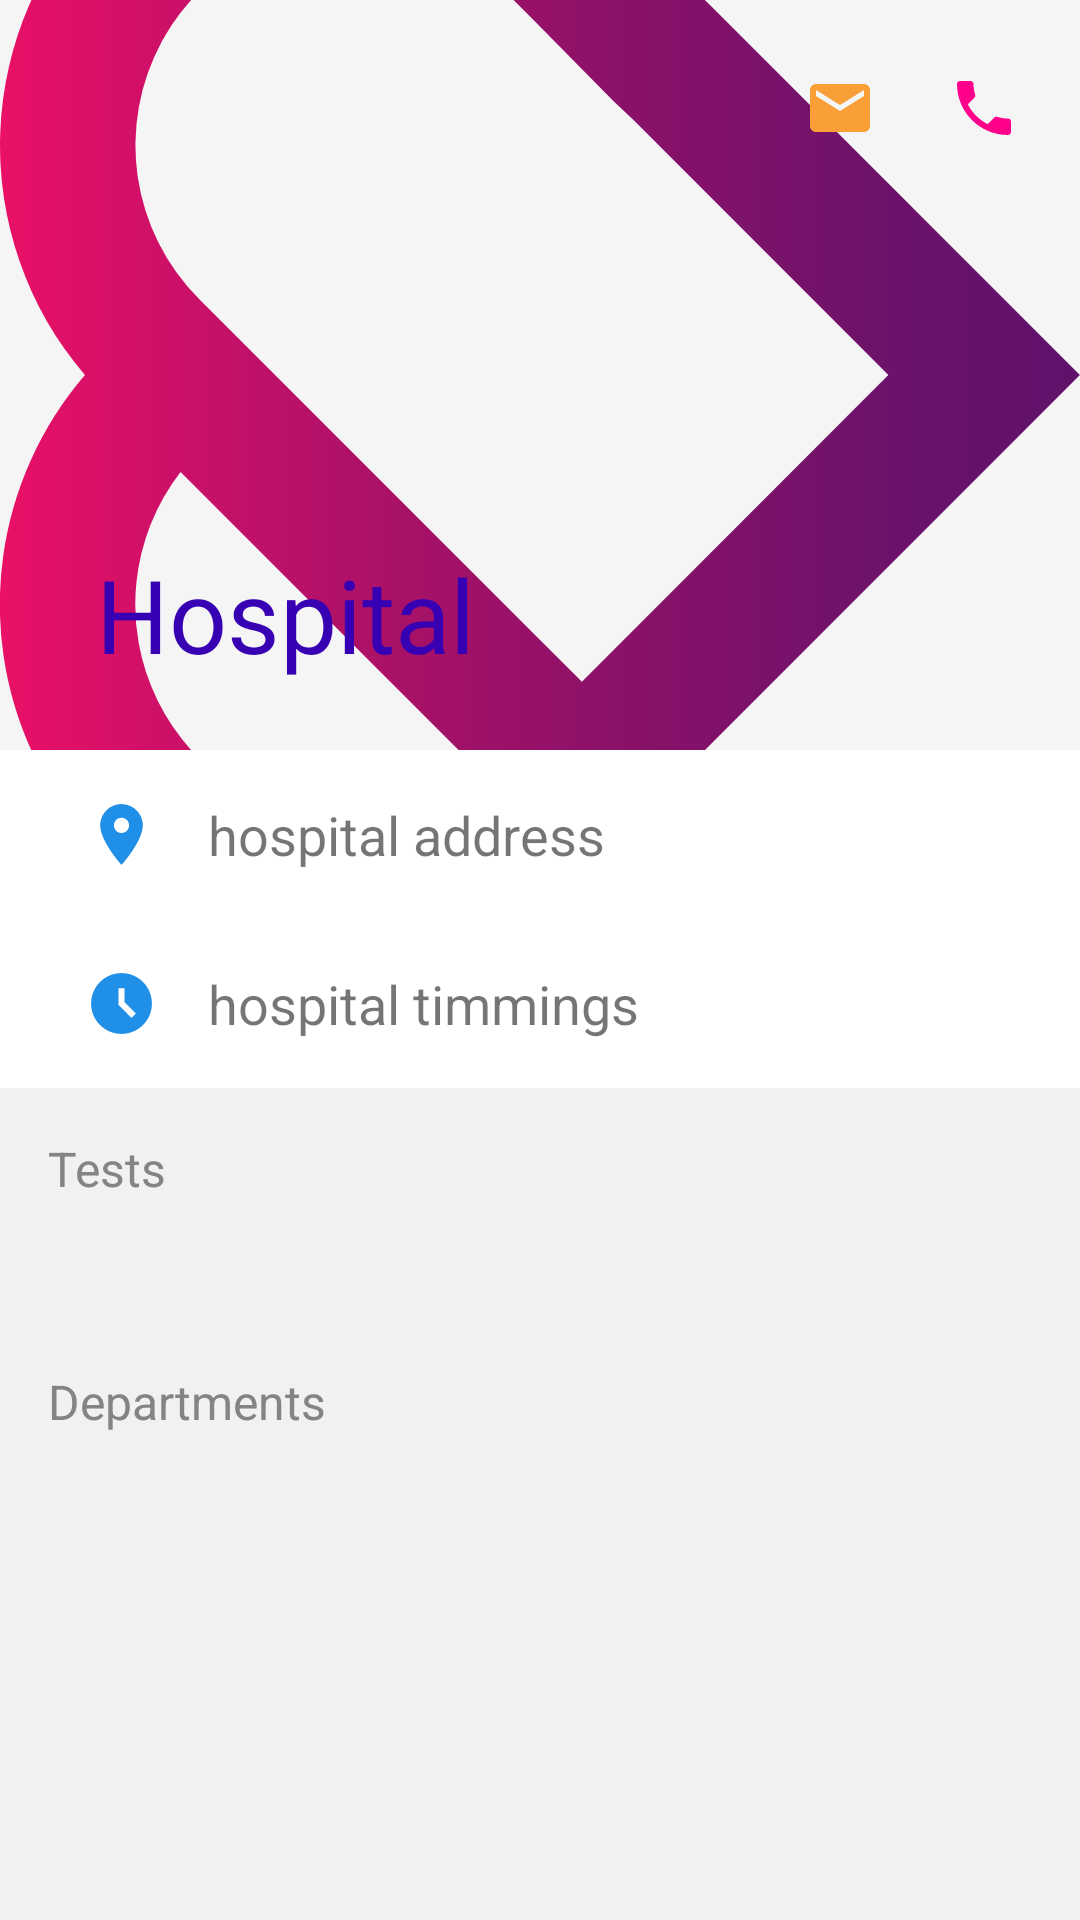

Icon bounding boxes for this 1080×1920 phone screenshot, format (x1, y1, x2, y2):
access time: (91, 973, 152, 1034)
phone: (957, 81, 1011, 135)
place: (100, 804, 143, 865)
